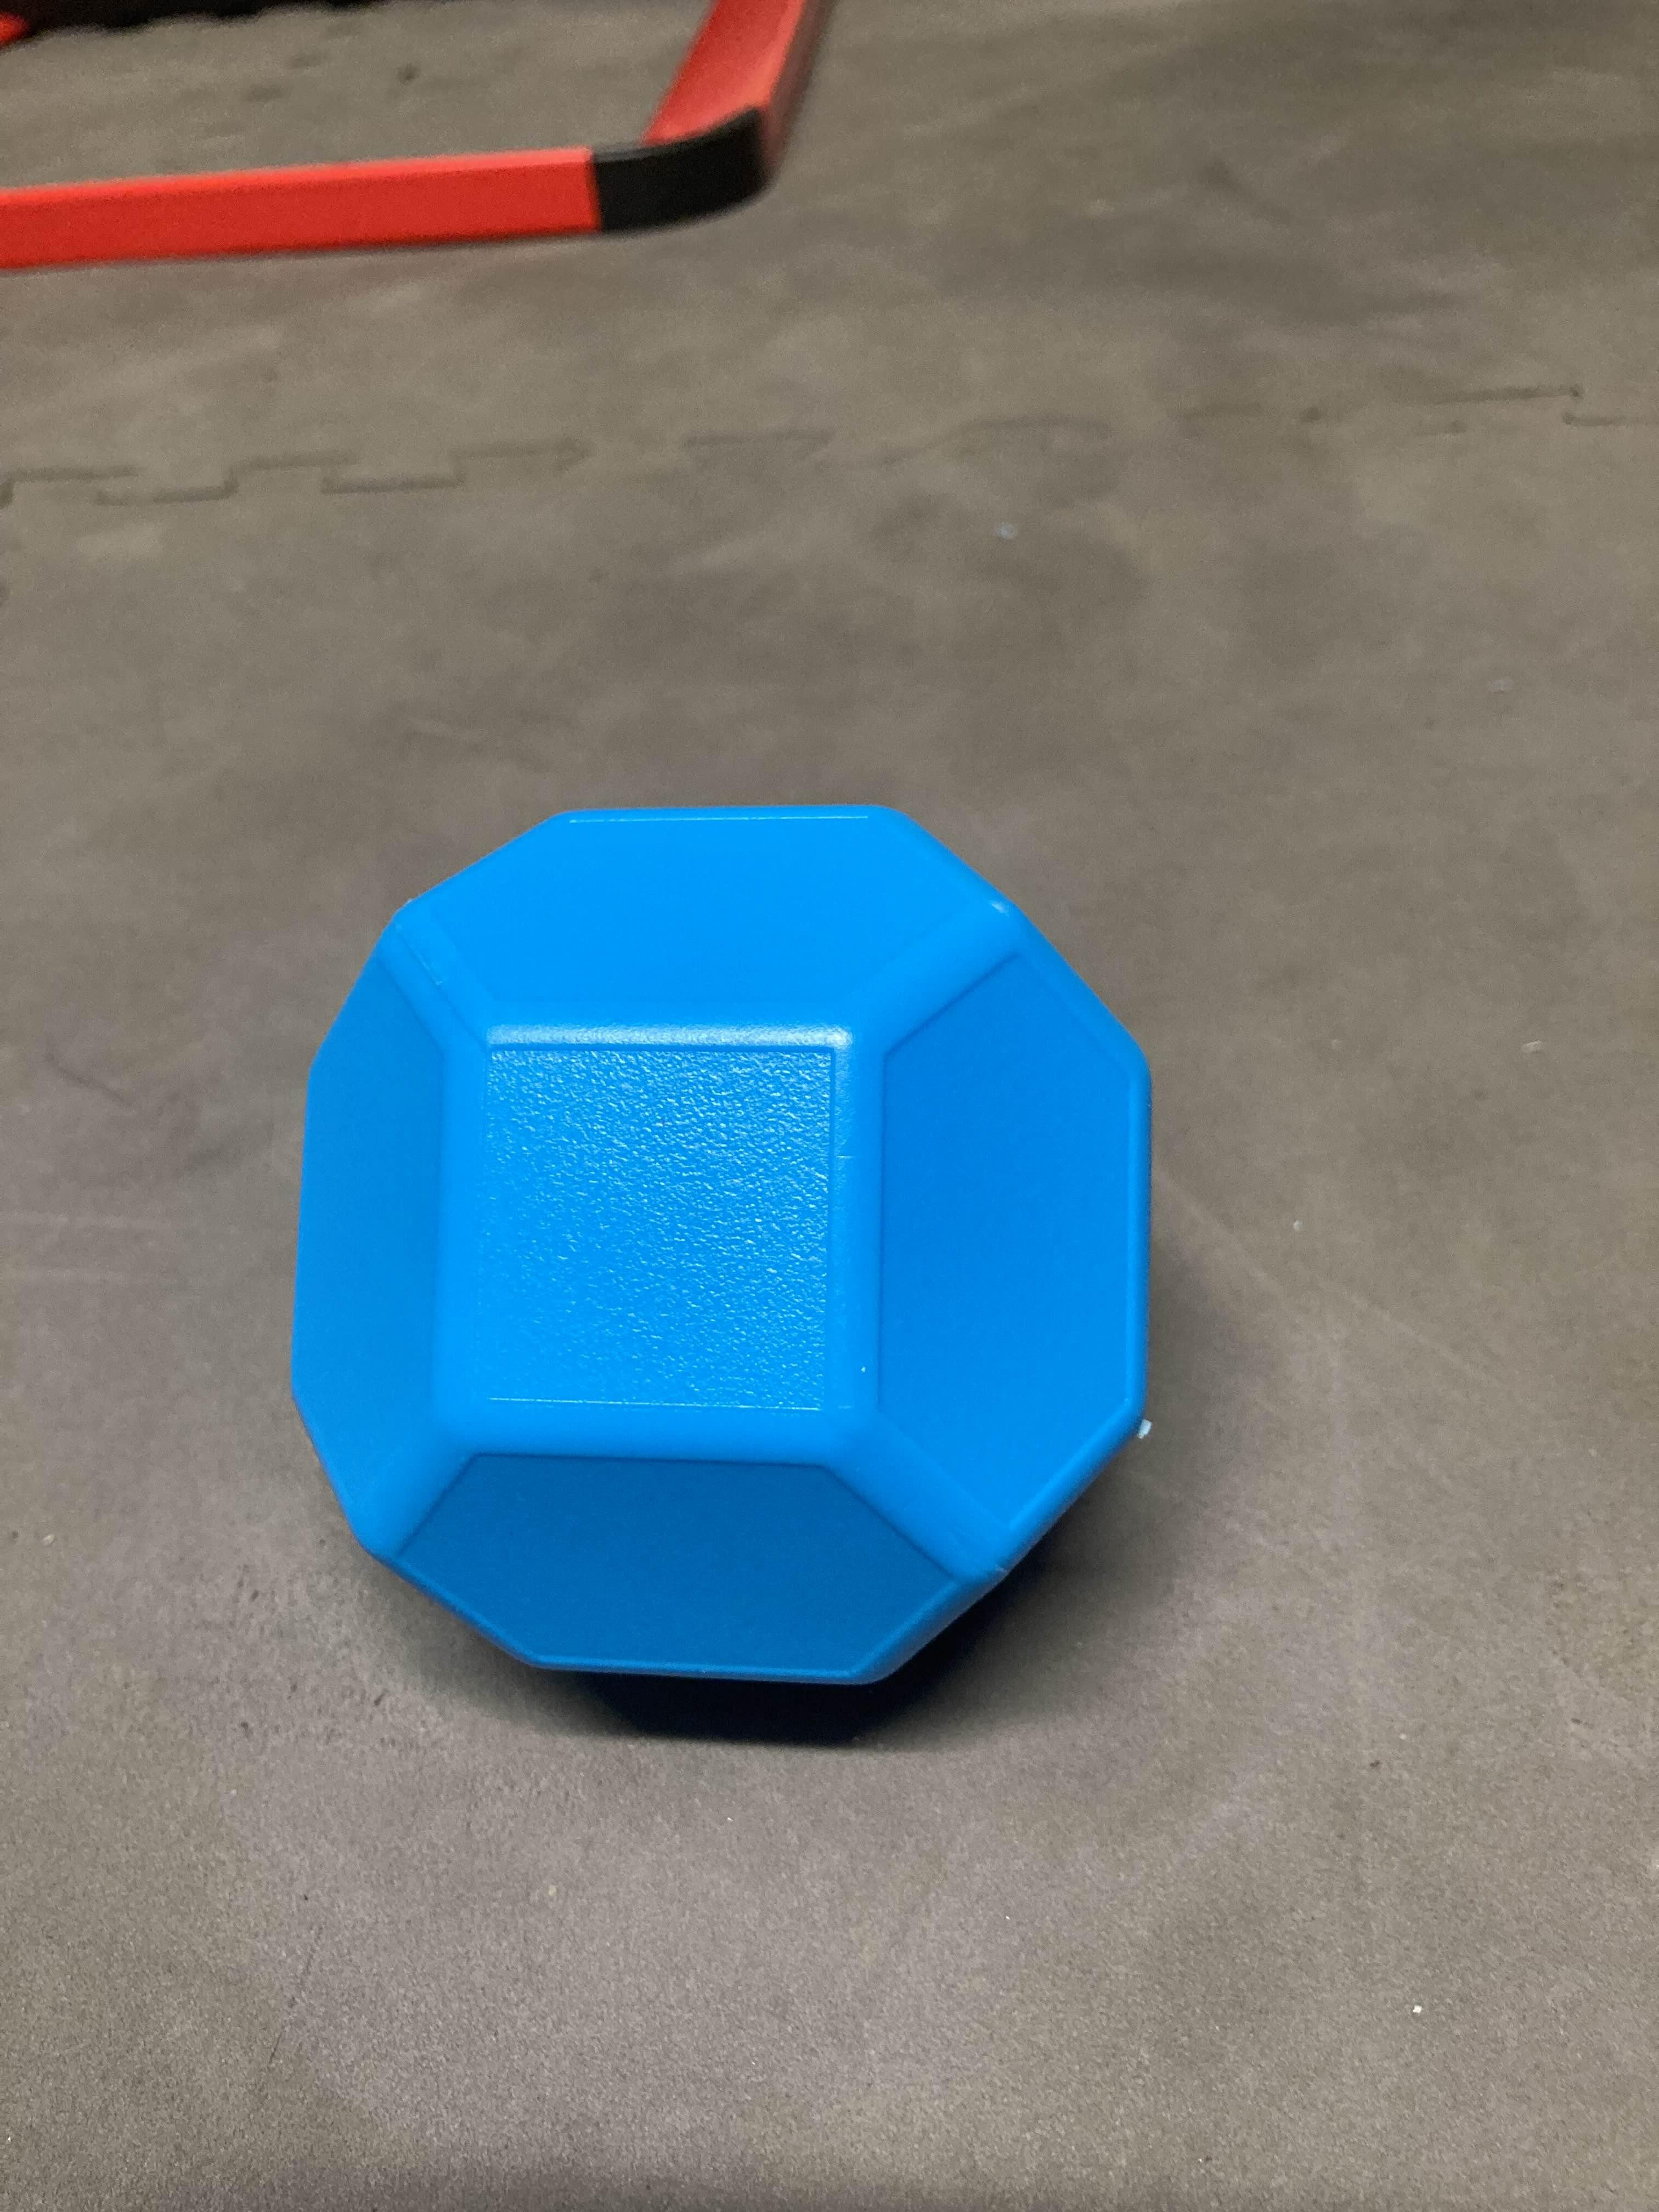Vex-Pieces-BLUE: (288, 803, 1154, 1700)
